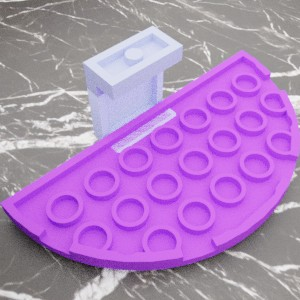lego: (0, 49, 300, 270), (83, 25, 182, 157)
